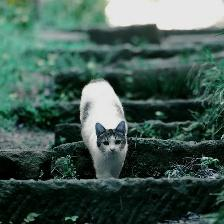kedo: (81, 78, 127, 178)
